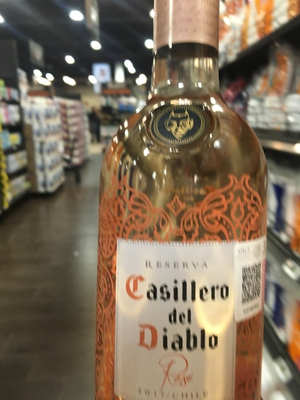casillero del diablo rose: (96, 1, 276, 400)
